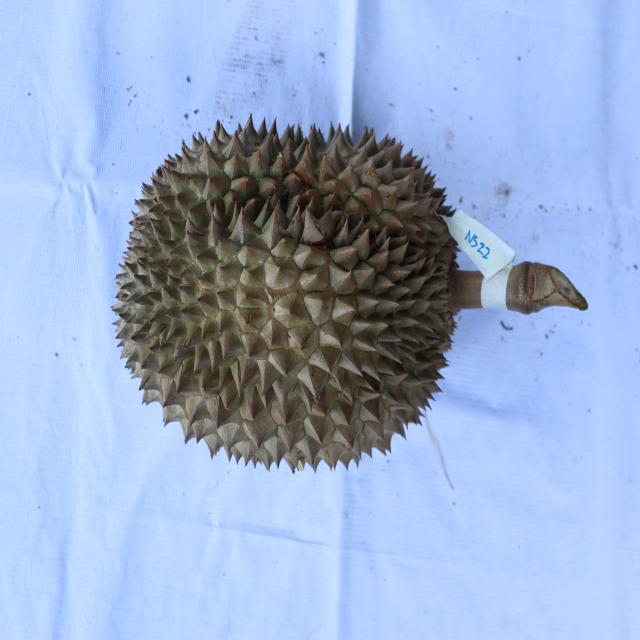mature: (111, 111, 458, 475)
